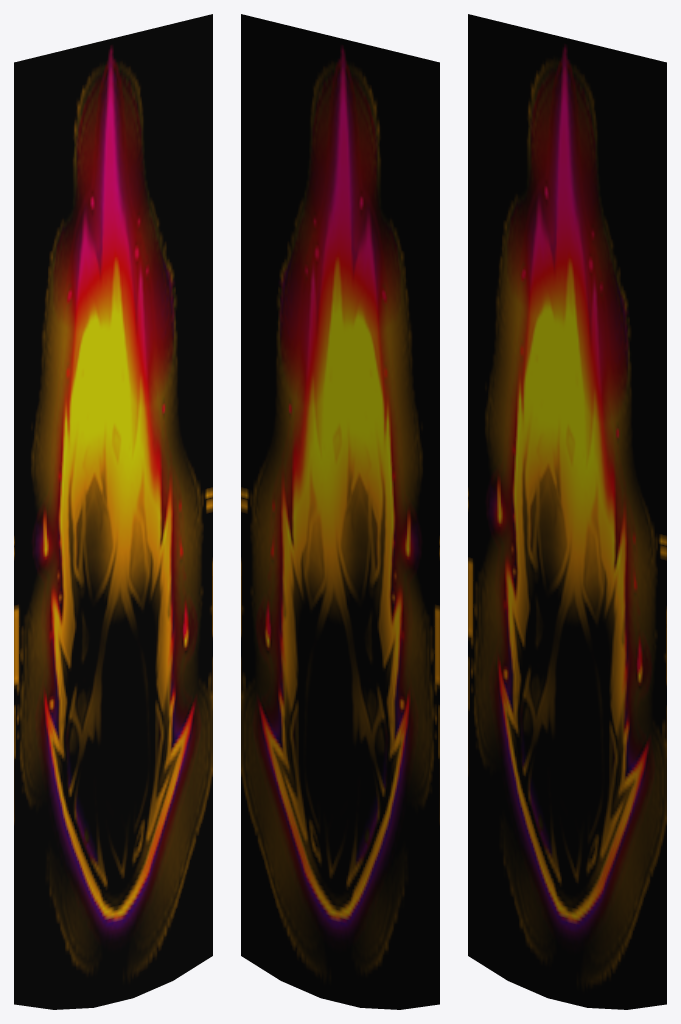
File: FX_maikebai_skill2_penshe_mod.FBX
3 views of the same model, side by side, from view 1: azimuth 30°, elevation 25°; view 2: azimuth 150°, elevation 25°; view 3: azimuth 330°, elevation 25° (orthographic).
Parts seen in each view (by area): view 1: Plane05; view 2: Plane05; view 3: Plane05.
Part boxes in pixels (left/top/right/bottom): Plane05: left=14, top=14, right=212, bottom=1009; Plane05: left=241, top=14, right=439, bottom=1009; Plane05: left=468, top=14, right=666, bottom=1009.
Bounding box in the file's own units: 50.81 × 1.03e-05 × 236.
